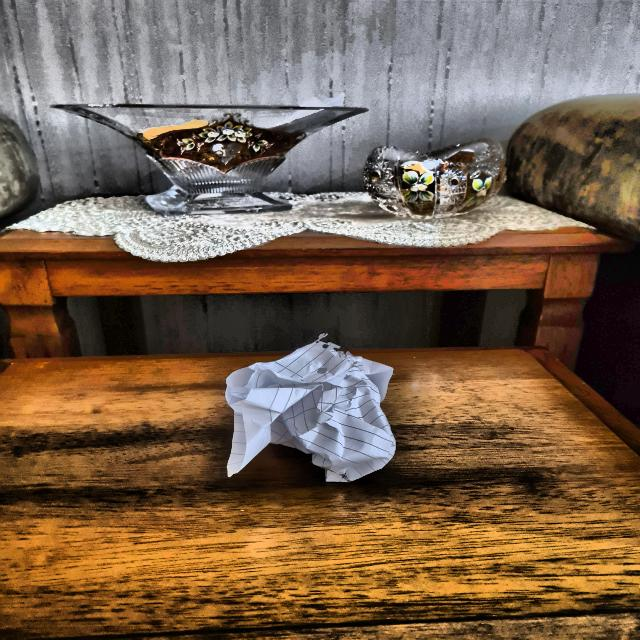Paper: (220, 334, 394, 494)
